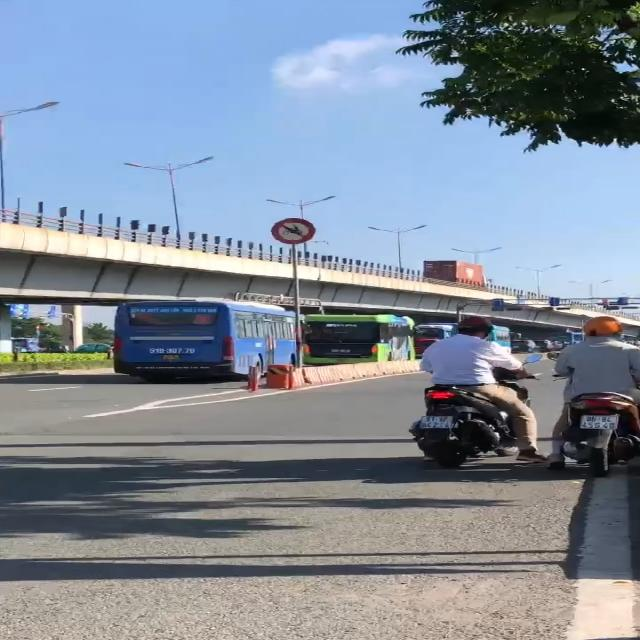Bien bao cam xe may: (268, 215, 326, 248)
